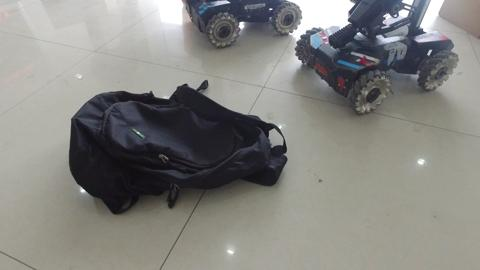bag: (68, 87, 288, 212)
chariot: (298, 1, 459, 117), (181, 1, 304, 38)
